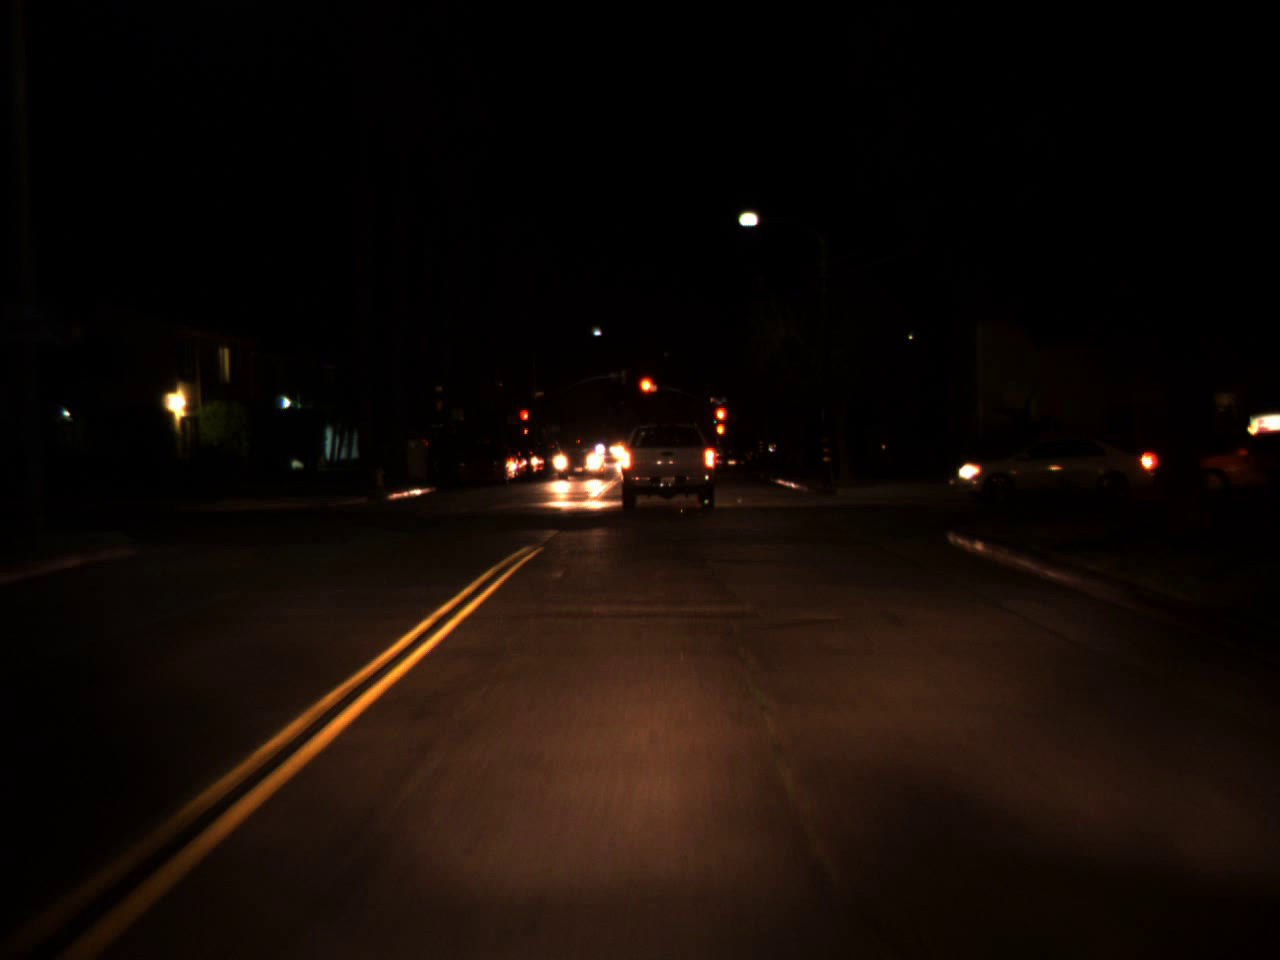stop: (636, 374, 657, 411), (713, 405, 728, 437), (518, 407, 530, 434)
